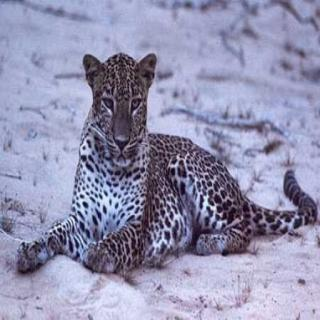Leopard: (15, 40, 320, 271)
